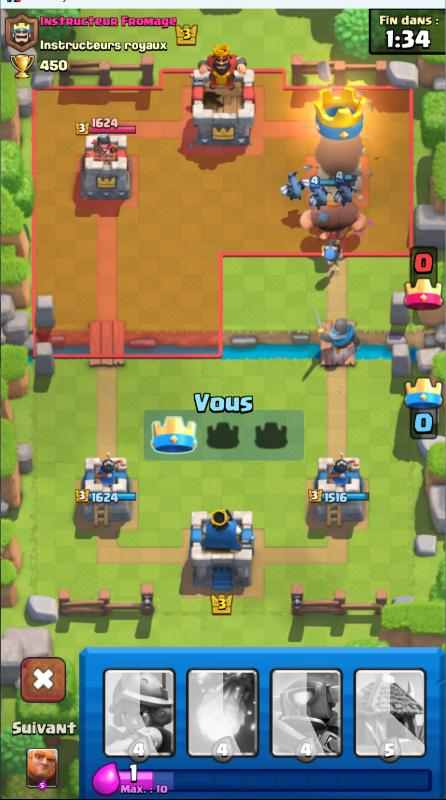chevalier: (310, 305, 371, 371)
gargouille: (282, 165, 303, 205), (307, 170, 326, 212), (338, 172, 353, 211)
geant: (298, 191, 369, 250)
